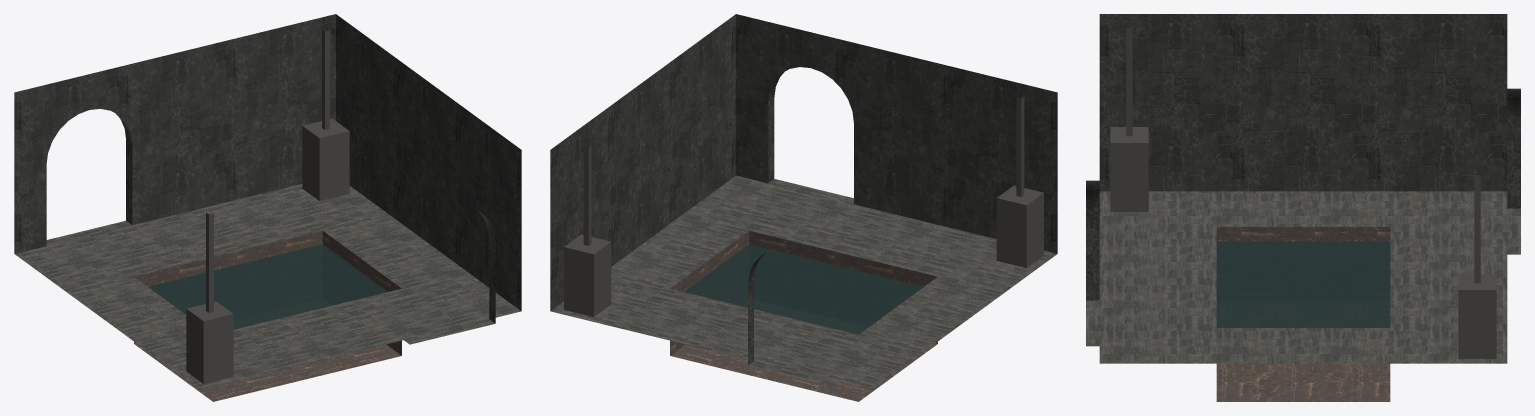
Rendered from pump-room.7f6a7954.gltf.
3 renders of one model, left to right at view 1: azimuth 30°, elevation 25°; view 2: azimuth 150°, elevation 25°; view 3: azimuth 270°, elevation 25°, orthographic. The views are drawn at different scales.
Parts seen in each view (by area): view 1: pump-room-mesh, pump-room-props; view 2: pump-room-mesh, pump-room-props; view 3: pump-room-mesh, pump-room-props.
Boxes of the visible parts, x1,y1,x2,y2 form: pump-room-mesh: [14, 14, 521, 401]; pump-room-props: [148, 29, 387, 383]; pump-room-mesh: [550, 14, 1057, 401]; pump-room-props: [564, 96, 1043, 334]; pump-room-mesh: [1086, 14, 1520, 401]; pump-room-props: [1110, 28, 1496, 358].
Bounding box in the file's own units: 7.5 × 5.1 × 8.
Materials: 5 (3 with a texture image).
